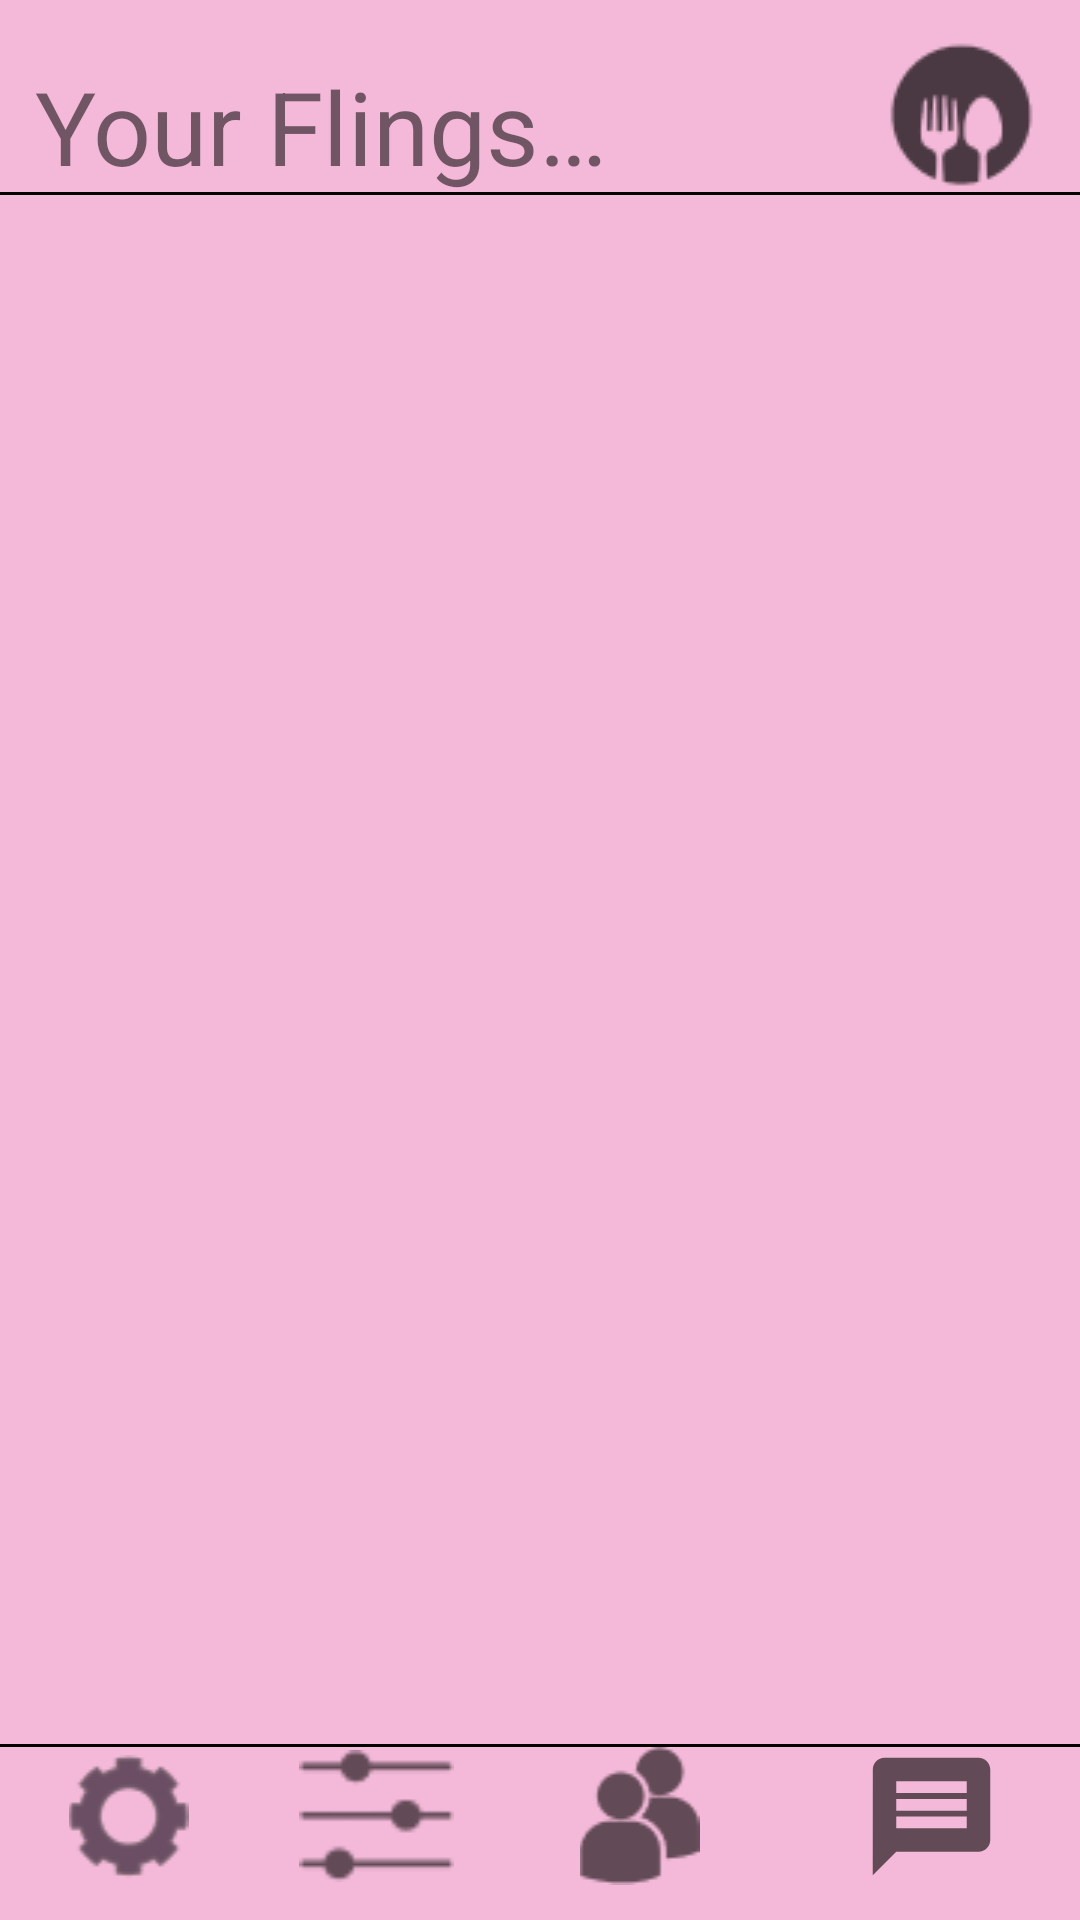

Screen size 1080px×1920px. Icon name, then its box in pixels as [x1, y1, x2, y2]:
filter: [299, 1750, 454, 1880]
message: [872, 1757, 991, 1875]
plate: [890, 44, 1032, 186]
settings: [69, 1755, 189, 1876]
